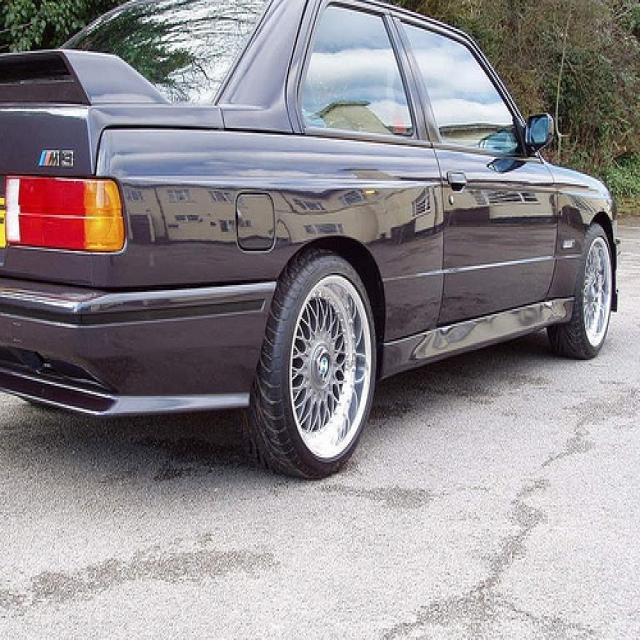car: (0, 0, 618, 488)
